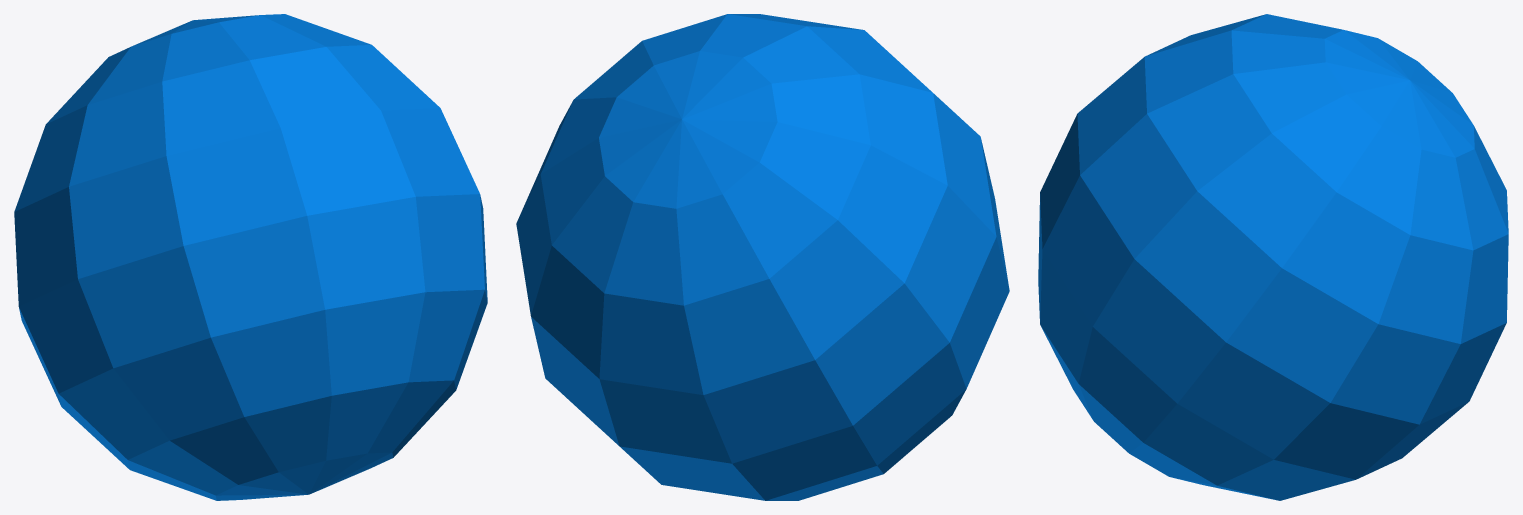
Rendered from blueBullet.fbx.
The picture shows the model from 3 angles, left to right: view 1: azimuth 30°, elevation 25°; view 2: azimuth 150°, elevation 25°; view 3: azimuth 270°, elevation 25°; orthographic projection. The views are drawn at different scales.
Parts seen in each view (by area): view 1: polySurface761; view 2: polySurface761; view 3: polySurface761.
Part boxes in pixels (x1=…): polySurface761: x1=14, y1=14, x2=487, y2=500; polySurface761: x1=516, y1=14, x2=1009, y2=500; polySurface761: x1=1038, y1=14, x2=1508, y2=500.
Bounding box in the file's own units: 0.1543 × 0.1545 × 0.1523.
